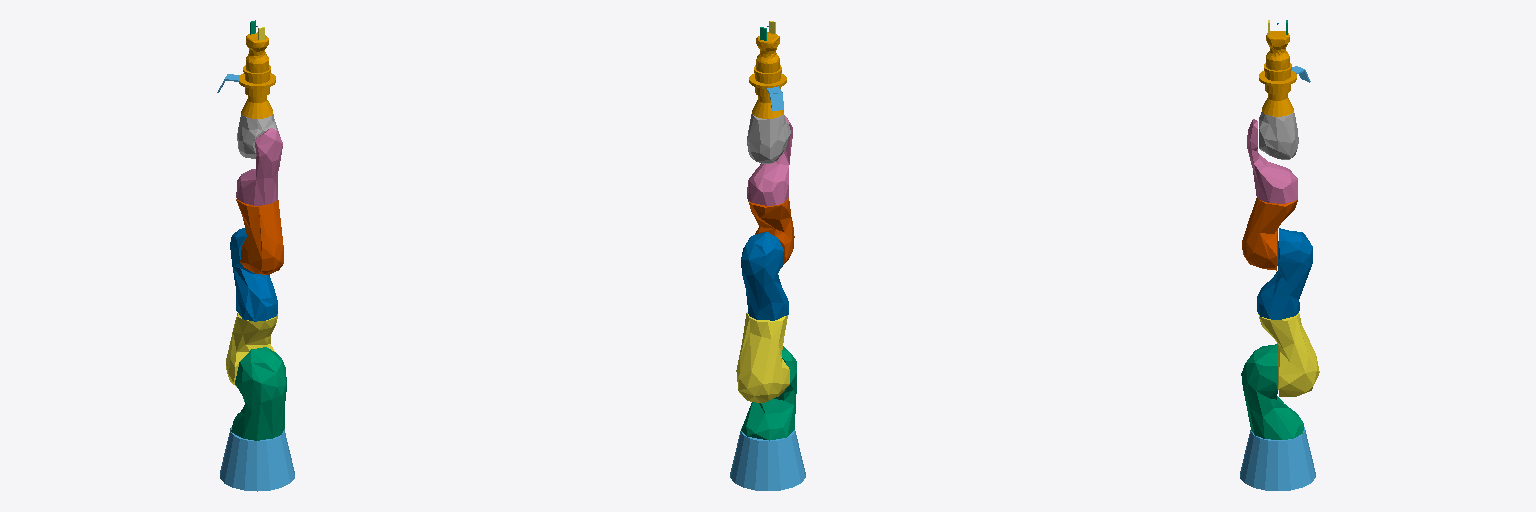
URDF robot description (kuka_robotiq):
<robot name="kuka_robotiq" version="1.6">

  <!-- ========================================================================= -->
  <!-- ================================= Links ================================= -->
  <!-- ========================================================================= -->

  <link name="world" />

  <link name="arm_iiwa_link_0">
    <inertial>
      <origin rpy="0 -0 0" xyz="-0.1 0 0.07" />
      <mass value="5" />
      <inertia ixx="1.0" ixy="0" ixz="0" iyy="1.0" iyz="0" izz="1.0" />
    </inertial>
    <collision name="iiwa_link_0_collision">
      <origin rpy="0 -0 0" xyz="0 0 0" />
      <geometry>
        <mesh filename="iiwa14/simple/link_0.stl" scale="1 1 1">
        </mesh>
      </geometry>
    </collision>
    <visual name="iiwa_link_0_visual">
      <origin rpy="0 -0 0" xyz="0 0 0" />
      <geometry>
        <mesh filename="iiwa14/simple/link_0.stl" scale="1 1 1">
        </mesh>
      </geometry>
    </visual>
  </link>

  <link name="arm_iiwa_link_1">
    <inertial>
      <origin rpy="0 -0 0" xyz="0 -0.03 0.12" />
      <mass value="4" />
      <inertia ixx="1.0" ixy="0" ixz="0" iyy="1.0" iyz="0" izz="1.0" />
    </inertial>
    <collision name="iiwa_link_1_collision">
      <origin rpy="0 -0 0" xyz="0 0 0" />
      <geometry>
        <mesh filename="iiwa14/simple/link_1.stl" scale="1 1 1">
        </mesh>
      </geometry>
    </collision>
    <visual name="iiwa_link_1_visual">
      <origin rpy="0 -0 0" xyz="0 0 0" />
      <geometry>
        <mesh filename="iiwa14/simple/link_1.stl" scale="1 1 1">
        </mesh>
      </geometry>
    </visual>
  </link>

  <link name="arm_iiwa_link_2">
    <inertial>
      <origin rpy="0 -0 0" xyz="0.0003 0.059 0.042" />
      <mass value="4" />
      <inertia ixx="1.0" ixy="0" ixz="0" iyy="1.0" iyz="0" izz="1.0" />
    </inertial>
    <collision name="iiwa_link_2_collision">
      <origin rpy="0 -0 0" xyz="0 0 0" />
      <geometry>
        <mesh filename="iiwa14/simple/link_2.stl" scale="1 1 1">
        </mesh>
      </geometry>
    </collision>
    <visual name="iiwa_link_2_visual">
      <origin rpy="0 -0 0" xyz="0 0 0" />
      <geometry>
        <mesh filename="iiwa14/simple/link_2.stl" scale="1 1 1">
        </mesh>
      </geometry>
    </visual>
  </link>

  <link name="arm_iiwa_link_3">
    <inertial>
      <origin rpy="0 -0 0" xyz="0 0.03 0.13" />
      <mass value="3" />
      <inertia ixx="1.0" ixy="0" ixz="0" iyy="1.0" iyz="0" izz="1.0" />
    </inertial>
    <collision name="iiwa_link_3_collision">
      <origin rpy="0 -0 0" xyz="0 0 0" />
      <geometry>
        <mesh filename="iiwa14/simple/link_3.stl" scale="1 1 1">
        </mesh>
      </geometry>
    </collision>
    <visual name="iiwa_link_3_visual">
      <origin rpy="0 -0 0" xyz="0 0 0" />
      <geometry>
        <mesh filename="iiwa14/simple/link_3.stl" scale="1 1 1">
        </mesh>
      </geometry>
    </visual>
  </link>

  <link name="arm_iiwa_link_4">
    <inertial>
      <origin rpy="0 0 0" xyz="0 0.067 0.034" />
      <mass value="2.7" />
      <inertia ixx="1.0" ixy="0" ixz="0" iyy="1.0" iyz="0" izz="1.0" />
    </inertial>
    <collision name="iiwa_link_4_collision">
      <origin rpy="0 -0 0" xyz="0 0 0" />
      <geometry>
        <mesh filename="iiwa14/simple/link_4.stl" scale="1 1 1">
        </mesh>
      </geometry>
    </collision>
    <visual name="iiwa_link_4_visual">
      <origin rpy="0 -0 0" xyz="0 0 0" />
      <geometry>
        <mesh filename="iiwa14/simple/link_4.stl" scale="1 1 1">
        </mesh>
      </geometry>
    </visual>
  </link>

  <link name="arm_iiwa_link_5">
    <inertial>
      <origin rpy="0 0 0" xyz="0.0001 0.021 0.076" />
      <mass value="1.7" />
      <inertia ixx="1.0" ixy="0" ixz="0" iyy="1.0" iyz="0" izz="1.0" />
    </inertial>
    <collision name="iiwa_link_5_collision">
      <origin rpy="0 0 0" xyz="0 0 0" />
      <geometry>
        <mesh filename="iiwa14/simple/link_5.stl" scale="1 1 1">
        </mesh>
      </geometry>
    </collision>
    <visual name="iiwa_link_5_visual">
      <origin rpy="0 -0 0" xyz="0 0 0" />
      <geometry>
        <mesh filename="iiwa14/simple/link_5.stl" scale="1 1 1">
        </mesh>
      </geometry>
    </visual>
  </link>

  <link name="arm_iiwa_link_6">
    <inertial>
      <origin rpy="0 0 0" xyz="0 0.0006 0.0004" />
      <mass value="1.8" />
      <inertia ixx="1.0" ixy="0" ixz="0" iyy="1.0" iyz="0" izz="1.0" />
    </inertial>
    <collision name="iiwa_link_6_collision">
      <origin rpy="0 -0 0" xyz="0 0 0" />
      <geometry>
        <mesh filename="iiwa14/simple/link_6.stl" scale="1 1 1">
        </mesh>
      </geometry>
    </collision>
    <visual name="iiwa_link_6_visual">
      <origin rpy="0 -0 0" xyz="0 0 0" />
      <geometry>
        <mesh filename="iiwa14/simple/link_6.stl" scale="1 1 1">
        </mesh>
      </geometry>
    </visual>
  </link>

  <link name="arm_iiwa_link_7">
    <inertial>
      <origin rpy="0 -0 0" xyz="0 0 0.02" />
      <mass value="2.7" />
      <inertia ixx="1.0" ixy="0" ixz="0" iyy="1.0" iyz="0" izz="1.0" />
    </inertial>
    <collision name="iiwa_link_7_collision">
      <origin rpy="0 -0 0" xyz="0 0 0" />
      <geometry>
        <mesh filename="iiwa14/simple/link_7_combined.stl" scale="1 1 1">
        </mesh>
      </geometry>
    </collision>
    <visual name="iiwa_link_7_visual">
      <origin rpy="0 -0 0" xyz="0 0 0" />
      <geometry>
        <mesh filename="iiwa14/simple/link_7_combined.stl" scale="1 1 1">
        </mesh>
      </geometry>
    </visual>
  </link>

  <link name="camera_mount">
    <inertial>
      <origin rpy="0 -0 0" xyz="0 0 0.02" />
      <mass value="0.01" />
      <inertia ixx="0.01" ixy="0" ixz="0" iyy="0.01" iyz="0" izz="0.01" />
    </inertial>
    <collision name="camera_mount_collision">
      <origin rpy="0 -0 0" xyz="0 0 0" />
      <geometry>
        <mesh filename="iiwa14/simple/link_7_cam_mount.stl" scale="1 1 1">
        </mesh>
      </geometry>
    </collision>
    <visual name="camera_mount_visual">
      <origin rpy="0 -0 0" xyz="0 0 0" />
      <geometry>
        <mesh filename="iiwa14/simple/link_7_cam_mount.stl" scale="1 1 1">
        </mesh>
      </geometry>
    </visual>
  </link>

  <link name="robotiq_hande_gripper_finger1">
    <inertial>
      <mass value="0.05" />
      <inertia ixx="0.00000892" ixy="0" ixz="0" iyy="0.00001048" iyz="0" izz="0.00000177" />
    </inertial>
    <visual name="visual1">
      <origin rpy="0 0 0" xyz="0 0 0" />
      <geometry>
        <mesh filename="robotiq_hande/robotiq_hande_finger.stl">
        </mesh>
      </geometry>
    </visual>
    <collision name="collision1">
      <origin rpy="0 0 0" xyz="0 0 0" />
      <geometry>
        <mesh filename="robotiq_hande/robotiq_hande_finger.stl">
        </mesh>
      </geometry>
    </collision>
  </link>

  <link name="robotiq_hande_gripper_finger2">
    <inertial>
      <mass value="0.05" />
      <inertia ixx="0.00000892" ixy="0" ixz="0" iyy="0.00001048" iyz="0" izz="0.00000177" />
    </inertial>
    <visual name="visual1">
      <origin rpy="0 0 0" xyz="0 0 0" />
      <geometry>
        <mesh filename="robotiq_hande/robotiq_hande_finger.stl">
        </mesh>
      </geometry>
    </visual>
    <collision name="collision1">
      <origin rpy="0 0 0" xyz="0 0 0" />
      <geometry>
        <mesh filename="robotiq_hande/robotiq_hande_finger.stl">
        </mesh>
      </geometry>
    </collision>
  </link>

  <!-- ========================================================================== -->
  <!-- ================================= Joints ================================= -->
  <!-- ========================================================================== -->

  <joint name="world_iiwa_joint" type="fixed">
    <child link="arm_iiwa_link_0" />
    <parent link="world" />
    <origin rpy="0 0 0" xyz="0 0 0.0"/>
  </joint>

  <joint name="iiwa_joint_1" type="revolute">
    <child link="arm_iiwa_link_1" />
    <parent link="arm_iiwa_link_0" />
    <limit effort="320" lower="-2.96" upper="2.96" velocity="10" />
    <dynamics damping="1.5" friction="1.0" spring_reference="0" spring_stiffness="0" />
    <axis xyz="0 0 1" />
    <origin rpy="0.0 0.0 0.0" xyz="0.0 0.0 0.1575" />
  </joint>
  
  <joint name="iiwa_joint_2" type="revolute">
    <child link="arm_iiwa_link_2" />
    <parent link="arm_iiwa_link_1" />
    <limit effort="320" lower="-2.09" upper="2.09" velocity="10" />
    <dynamics damping="1.5" friction="1.0" spring_reference="0" spring_stiffness="0" />
    <axis xyz="0 0 1" />
    <origin rpy="1.5708 -0.0 3.14159" xyz="0.0 0.0 0.20249999999999999" />
  </joint>

  <joint name="iiwa_joint_3" type="revolute">
    <child link="arm_iiwa_link_3" />
    <parent link="arm_iiwa_link_2" />
    <limit effort="176" lower="-2.96" upper="2.96" velocity="10" />
    <dynamics damping="1.5" friction="1.0" spring_reference="0" spring_stiffness="0" />
    <axis xyz="0 0 1" />
    <origin rpy="1.5708 -2.6535897933379425e-06 3.1415926535800462" xyz="9.116907345086933e-29 0.20449999999862045 -7.511704436343742e-07" />
  </joint>

  <joint name="iiwa_joint_4" type="revolute">
    <child link="arm_iiwa_link_4" />
    <parent link="arm_iiwa_link_3" />
    <limit effort="176" lower="-2.09" upper="2.09" velocity="10" />
    <dynamics damping="1.5" friction="1.0" spring_reference="0" spring_stiffness="0" />
    <axis xyz="0 0 1" />
    <origin rpy="1.5708 -0.0 0.0" xyz="0.0 0.0 0.21550000000000002" />
  </joint>

  <joint name="iiwa_joint_5" type="revolute">
    <child link="arm_iiwa_link_5" />
    <parent link="arm_iiwa_link_4" />
    <limit effort="110" lower="-2.96" upper="2.96" velocity="10" />
    <dynamics damping="1.5" friction="1.0" spring_reference="0" spring_stiffness="0" />
    <axis xyz="0 0 1" />
    <origin rpy="1.5708 2.6535897933379425e-06 -3.1415926535800462" xyz="0.0 0.18449999999875533 -6.777063415674434e-07" />
  </joint>

  <joint name="iiwa_joint_6" type="revolute">
    <child link="arm_iiwa_link_6" />
    <parent link="arm_iiwa_link_5" />
    <limit effort="70" lower="-2.09" upper="2.09" velocity="10" />
    <dynamics damping="1.5" friction="1.0" spring_reference="0" spring_stiffness="0" />
    <axis xyz="0 0 1" />
    <origin rpy="1.5708 -0.0 -1.7565425622120319e-22" xyz="0.0 0.0 0.2154999999999999" />
  </joint>

  <joint name="iiwa_joint_7" type="revolute">
    <child link="arm_iiwa_link_7" />
    <parent link="arm_iiwa_link_6" />
    <limit effort="70" lower="-3.0543300000000002" upper="3.0543300000000002" velocity="10" />
    <dynamics damping="1.5" friction="1.0" spring_reference="0" spring_stiffness="0" />
    <axis xyz="0 0 1" />
    <origin rpy="1.5708 -2.6535897933379425e-06 3.1415926535800462" xyz="0 0.08099999999945351 0" />
  </joint>

  <joint name="hande_to_camera_mount" type="fixed">
    <parent link="arm_iiwa_link_7" />
    <child link="camera_mount" />
    <origin rpy="0.0 0.0 -0.7854" xyz="0.0 0.0 0.0" />
  </joint>

  <joint name="hande_to_f1" type="fixed">
    <parent link="arm_iiwa_link_7" />
    <child link="robotiq_hande_gripper_finger1" />
    <origin rpy="0.0 0.0 0" xyz="0.0 0.0 0.2575" />
  </joint>

  <joint name="hande_to_f2" type="fixed">
    <parent link="arm_iiwa_link_7" />
    <child link="robotiq_hande_gripper_finger2" />
    <origin rpy="0.0 0.0 3.14159" xyz="0.0 0.0 0.2575" />
  </joint>

  <!-- ========================================================================= -->
  <!-- ========================= Virtual Grasp Target ========================== -->
  <!-- ========================================================================= -->

  <link name="grasptarget">
    <inertial>
      <origin rpy="0 0 0" xyz="0 0 0"/>
       <mass value="0.0001"/>
       <inertia ixx="0.1" ixy="0" ixz="0" iyy="0.1" iyz="0" izz="0.1"/>
    </inertial>
    <visual>
      <geometry>
        <sphere radius="0.003"/>
      </geometry>
      <color rgba="1. 0. 0. 1.0"/>
    </visual>
  </link>

  <joint name="grasp_target" type="fixed">
    <parent link="arm_iiwa_link_7"/>
    <child link="grasptarget"/>
    <origin rpy="0 0 0" xyz="0 0 0.2975"/>
  </joint>

</robot>

--- What the picture shows (computed from the rendered views, not written in the file) ---
Views: 3 orthographic renders of the robot side by side, from view 1: azimuth 30°, elevation 25°; view 2: azimuth 150°, elevation 25°; view 3: azimuth 270°, elevation 25°.
Model kuka_robotiq with 13 links and 12 joints (7 revolute, 5 fixed), rooted at world, posed every joint at zero.
Visible links, largest first — view 1: arm_iiwa_link_1, arm_iiwa_link_0, arm_iiwa_link_4, arm_iiwa_link_3, arm_iiwa_link_5, arm_iiwa_link_7, arm_iiwa_link_2, arm_iiwa_link_6; view 2: arm_iiwa_link_2, arm_iiwa_link_0, arm_iiwa_link_3, arm_iiwa_link_1, arm_iiwa_link_7, arm_iiwa_link_5, arm_iiwa_link_6, arm_iiwa_link_4; view 3: arm_iiwa_link_1, arm_iiwa_link_0, arm_iiwa_link_3, arm_iiwa_link_2, arm_iiwa_link_4, arm_iiwa_link_7, arm_iiwa_link_5, arm_iiwa_link_6.
Link boxes in pixels (x1=…): arm_iiwa_link_1: x1=231, y1=347, x2=286, y2=440; arm_iiwa_link_0: x1=220, y1=427, x2=294, y2=491; arm_iiwa_link_4: x1=236, y1=198, x2=283, y2=274; arm_iiwa_link_3: x1=230, y1=228, x2=277, y2=321; arm_iiwa_link_5: x1=236, y1=128, x2=282, y2=205; arm_iiwa_link_7: x1=239, y1=32, x2=275, y2=118; arm_iiwa_link_2: x1=226, y1=313, x2=277, y2=386; arm_iiwa_link_6: x1=237, y1=114, x2=278, y2=158; arm_iiwa_link_2: x1=736, y1=312, x2=789, y2=403; arm_iiwa_link_0: x1=730, y1=428, x2=805, y2=490; arm_iiwa_link_3: x1=741, y1=232, x2=788, y2=320; arm_iiwa_link_1: x1=741, y1=346, x2=796, y2=440; arm_iiwa_link_7: x1=749, y1=32, x2=786, y2=118; arm_iiwa_link_5: x1=747, y1=116, x2=792, y2=205; arm_iiwa_link_6: x1=747, y1=114, x2=790, y2=163; arm_iiwa_link_4: x1=748, y1=198, x2=794, y2=266; arm_iiwa_link_1: x1=1241, y1=344, x2=1303, y2=439; arm_iiwa_link_0: x1=1240, y1=427, x2=1315, y2=490; arm_iiwa_link_3: x1=1257, y1=228, x2=1312, y2=319; arm_iiwa_link_2: x1=1258, y1=313, x2=1319, y2=396; arm_iiwa_link_4: x1=1242, y1=198, x2=1297, y2=270; arm_iiwa_link_7: x1=1259, y1=31, x2=1296, y2=116; arm_iiwa_link_5: x1=1247, y1=119, x2=1297, y2=203; arm_iiwa_link_6: x1=1259, y1=112, x2=1298, y2=159.
Bounding box of the posed robot: 0.2398 × 0.2493 × 1.56 m (x, y, z).
Meshes: 10 distinct files referenced, 11 mesh visuals loaded (10 binary STL).